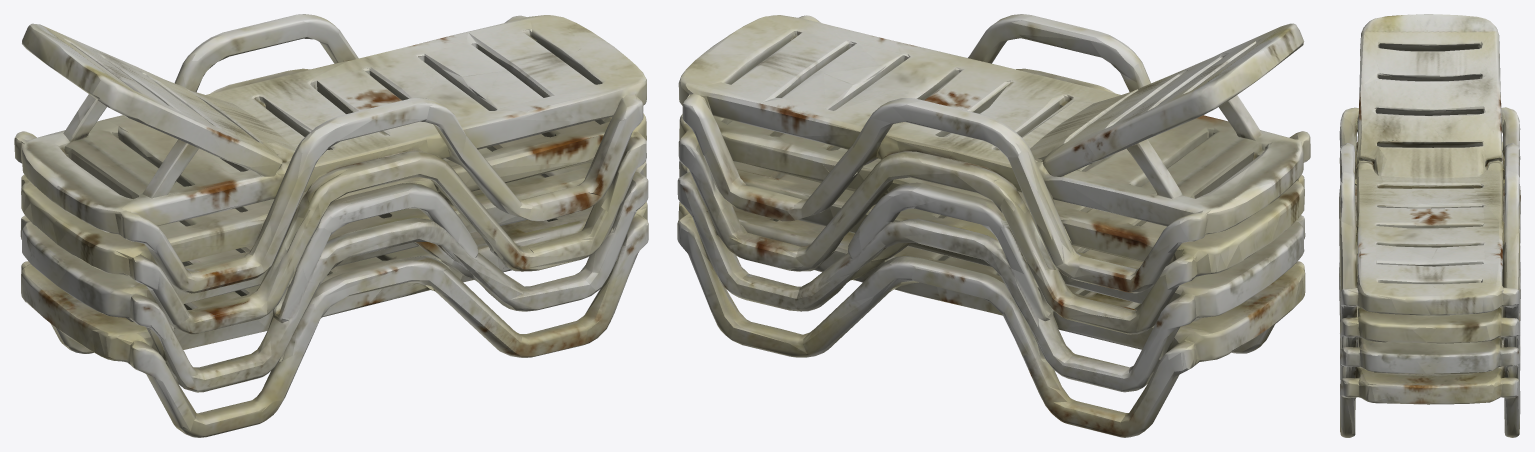
The model's file is lettini_impilati.glb.
The picture shows the model from 3 angles, left to right: view 1: azimuth 30°, elevation 25°; view 2: azimuth 150°, elevation 25°; view 3: azimuth 270°, elevation 25°; orthographic projection. The views are drawn at different scales.
Parts seen in each view (by area): view 1: Mesh_0; view 2: Mesh_0; view 3: Mesh_0.
Part boxes in pixels (<box>): Mesh_0: <box>14,14,648,437</box>; Mesh_0: <box>677,14,1310,437</box>; Mesh_0: <box>1339,14,1520,437</box>.
Size of the model in its own units: 1.9 by 1.18 by 0.744.
Materials: 1 (1 with a texture image).
